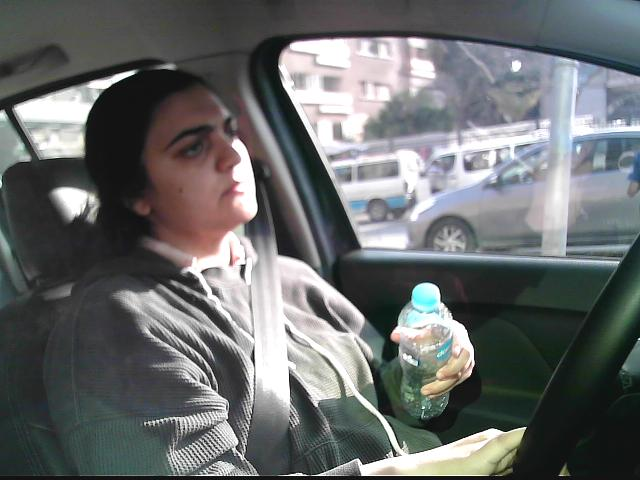Drinking: (391, 274, 471, 430)
